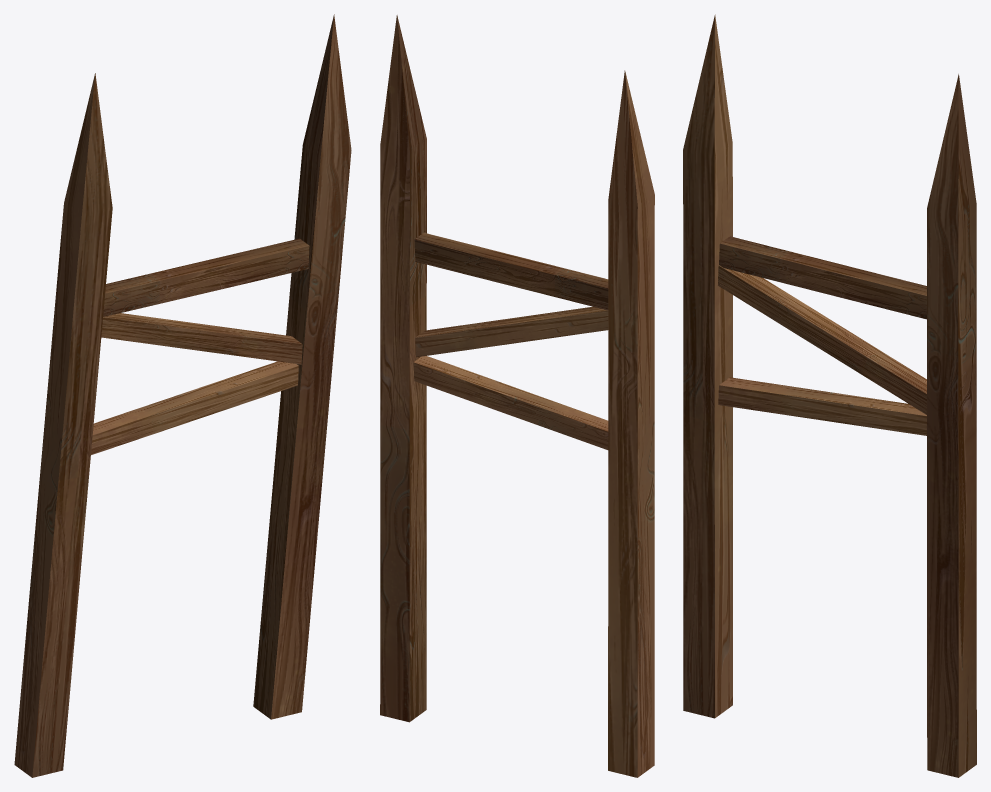
File: Door_Arena.fbx
3 renders of one model, left to right at view 1: azimuth 30°, elevation 25°; view 2: azimuth 150°, elevation 25°; view 3: azimuth 330°, elevation 25°, orthographic. The views are drawn at different scales.
Parts seen in each view (by area): view 1: Door_Arena; view 2: Door_Arena; view 3: Door_Arena.
Boxes of the visible parts, x1=… form: Door_Arena: x1=14, y1=14, x2=351, y2=777; Door_Arena: x1=380, y1=15, x2=654, y2=777; Door_Arena: x1=683, y1=14, x2=976, y2=777.
Bounding box in the file's own units: 269 × 616 × 67.64.
